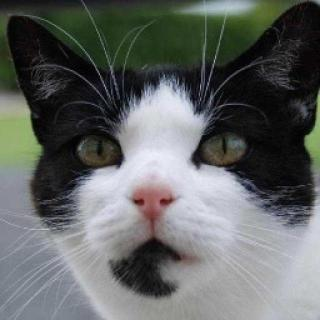cat: (3, 8, 320, 305)
nose: (126, 166, 184, 226)
